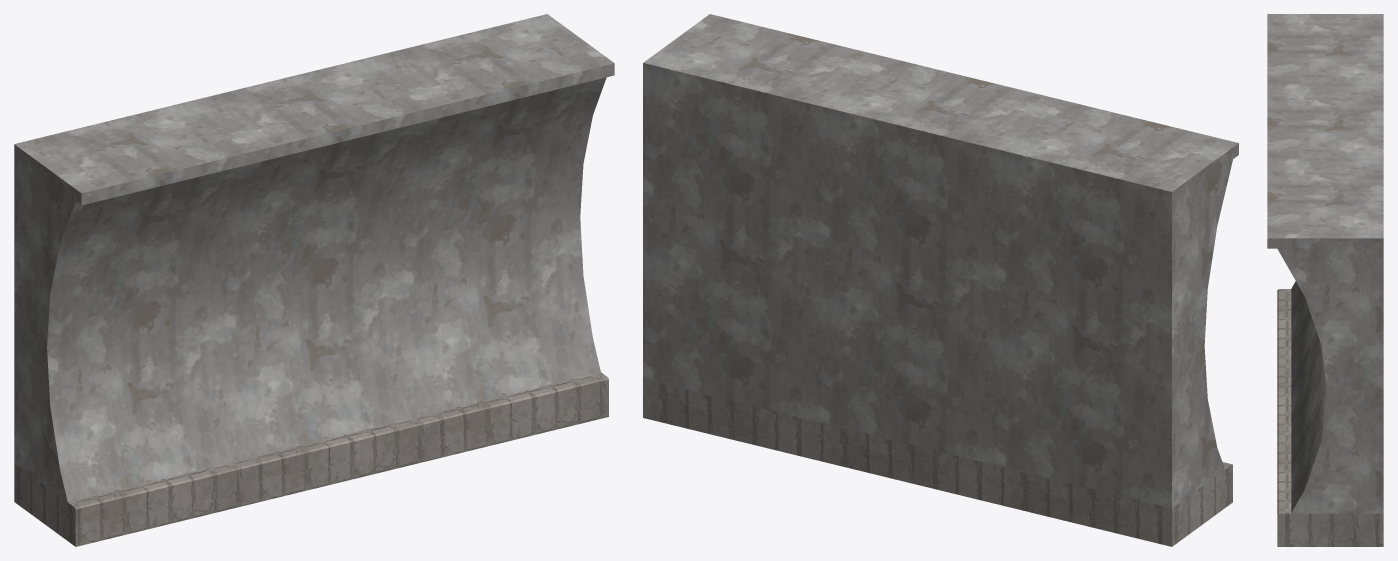
The model's file is SewerSetWall2V1.fbx.
The picture shows the model from 3 angles, left to right: view 1: azimuth 30°, elevation 25°; view 2: azimuth 150°, elevation 25°; view 3: azimuth 270°, elevation 25°; orthographic projection. The views are drawn at different scales.
Visible parts, largest first — view 1: Box040; view 2: Box040; view 3: Box040.
Boxes of the visible parts, <box> form: Box040: <box>14,14,614,546</box>; Box040: <box>643,14,1238,546</box>; Box040: <box>1267,14,1383,546</box>.
Bounding box in the file's own units: 2500 × 1603 × 547.
